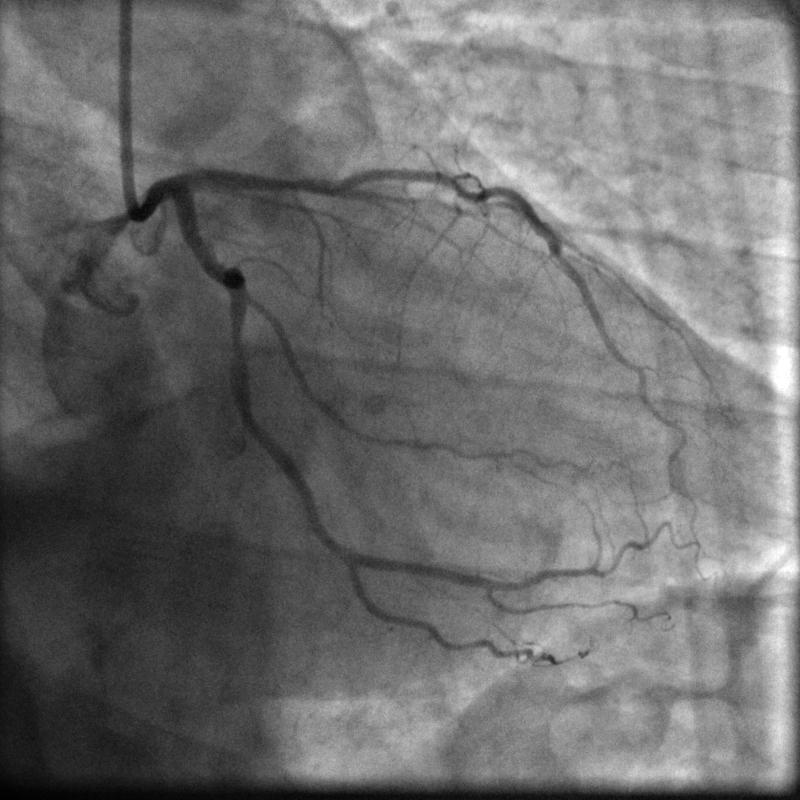Stenosis: (228, 327, 243, 356)
